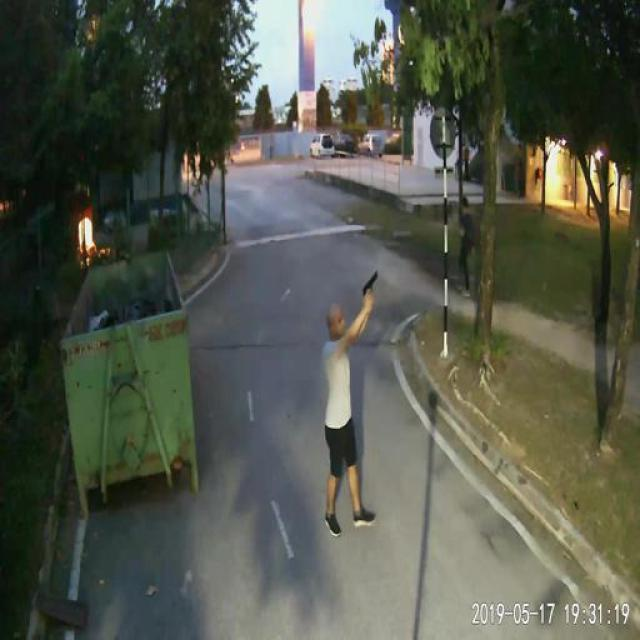senjata_api: (360, 267, 380, 297)
